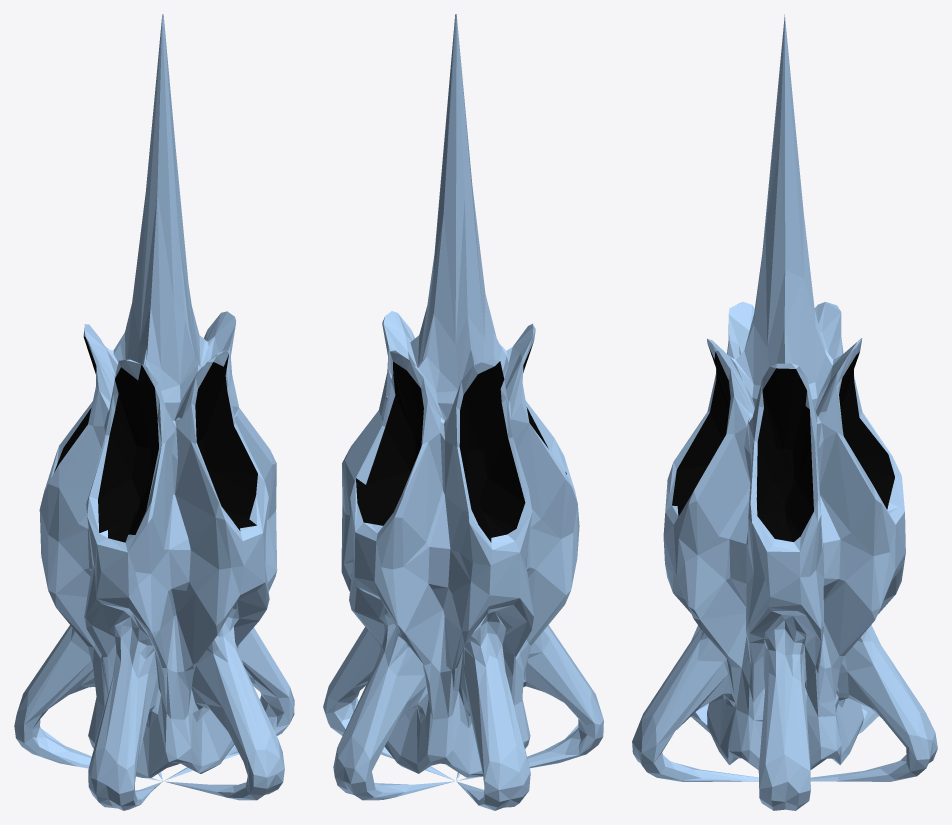
File: stage_object_tower.fbx
3 renders of one model, left to right at view 1: azimuth 30°, elevation 25°; view 2: azimuth 150°, elevation 25°; view 3: azimuth 270°, elevation 25°, orthographic.
Visible parts, largest first — view 1: ICO球; view 2: ICO球; view 3: ICO球.
Boxes of the visible parts, x1=… form: ICO球: x1=14, y1=14, x2=294, y2=810; ICO球: x1=323, y1=14, x2=603, y2=810; ICO球: x1=632, y1=14, x2=937, y2=810.
Size of the model in its own units: 5.12 by 16.05 by 5.8.
